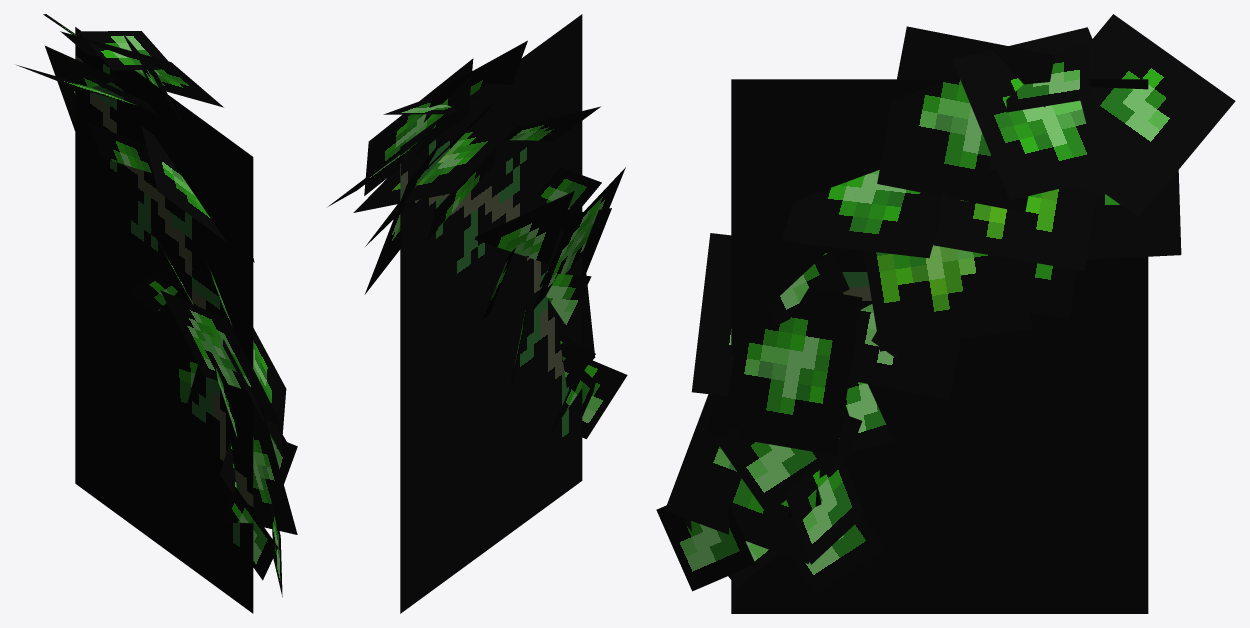
Rendered from vine_4.gltf.
3 views of the same model, side by side, from view 1: azimuth 30°, elevation 25°; view 2: azimuth 150°, elevation 25°; view 3: azimuth 270°, elevation 25° (orthographic). The views are drawn at different scales.
Parts seen in each view (by area): view 1: vine_4_descending; view 2: vine_4_descending; view 3: vine_4_descending.
Boxes of the visible parts, box(x1,y1,x2,y2) form: vine_4_descending: box(16, 14, 297, 613); vine_4_descending: box(328, 14, 627, 613); vine_4_descending: box(656, 14, 1235, 613).
Size of the model in its own units: 0.5335 by 1.65 by 1.51.
1 material, 1 textured.
